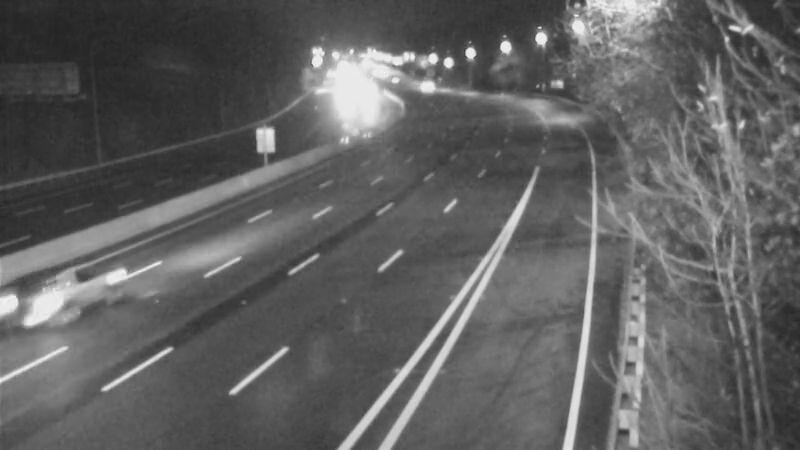vehicle: (24, 259, 104, 339), (401, 62, 451, 112)
